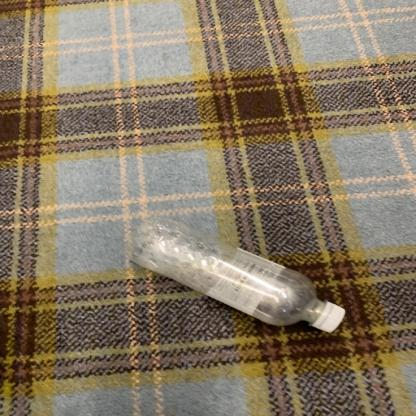trash: (121, 216, 350, 343)
